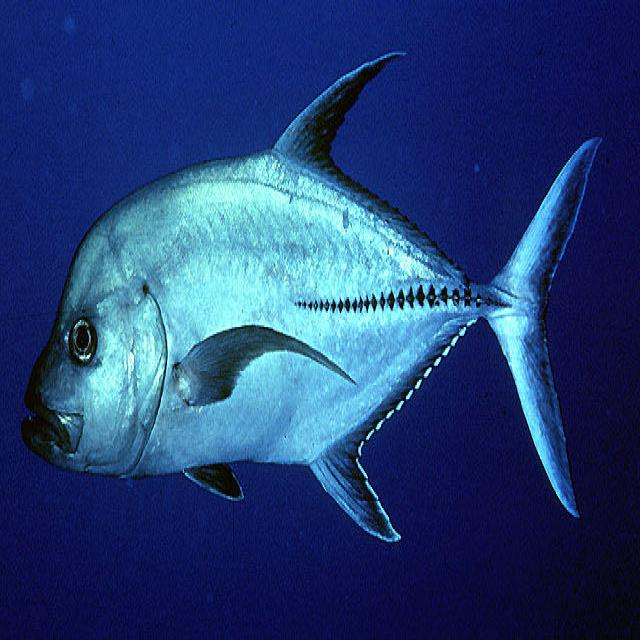ikan: (20, 48, 603, 545)
